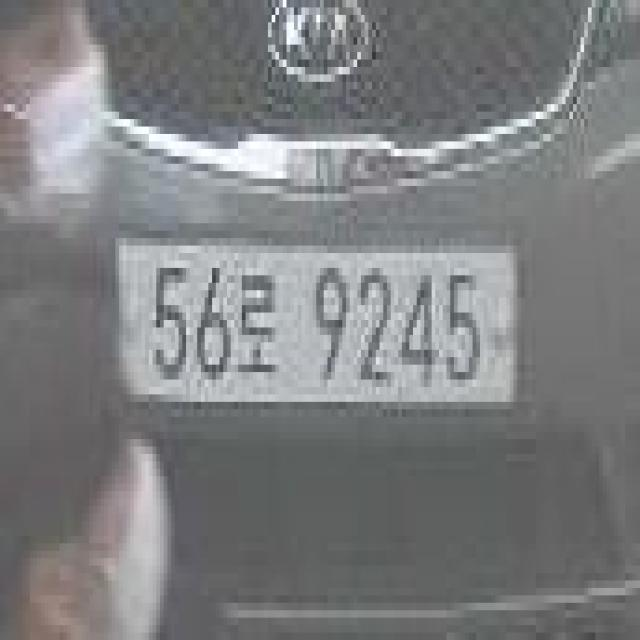illegal_plate: (113, 220, 529, 428)
